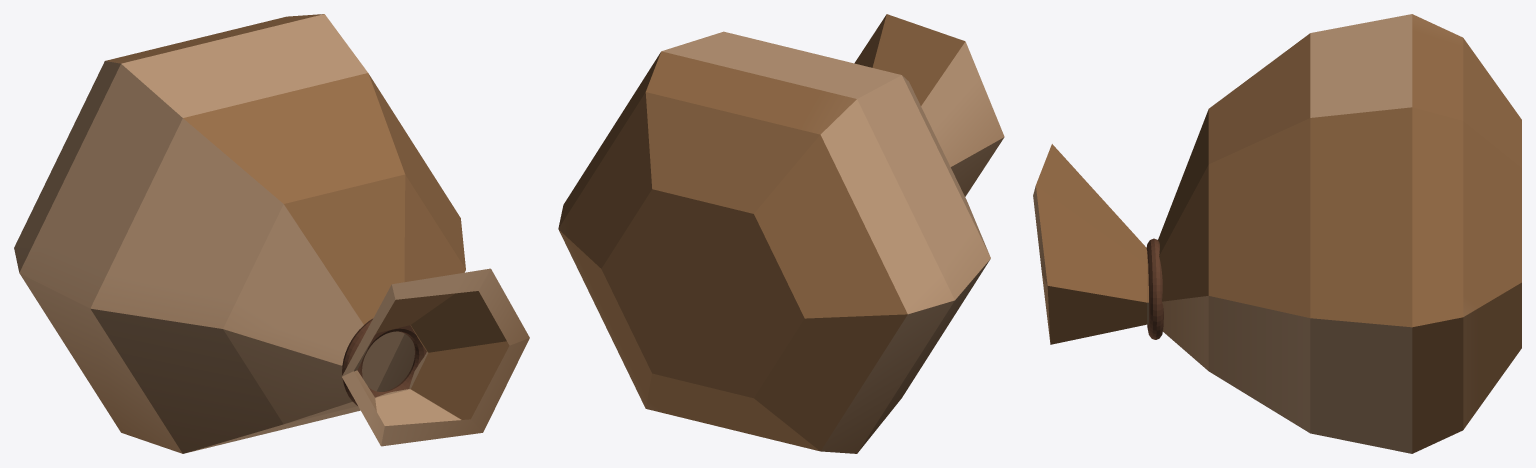
The model's file is lootbag_single.fbx.
3 renders of one model, left to right at view 1: azimuth 30°, elevation 25°; view 2: azimuth 150°, elevation 25°; view 3: azimuth 270°, elevation 25°, orthographic. The views are drawn at different scales.
Visible parts, largest first — view 1: Cylinder.002; view 2: Cylinder.002; view 3: Cylinder.002.
Part boxes in pixels (bbox=[...]): Cylinder.002: bbox=[14, 14, 529, 453]; Cylinder.002: bbox=[558, 14, 1004, 453]; Cylinder.002: bbox=[1033, 14, 1521, 453].
Size of the model in its own units: 178 by 154 by 197.
